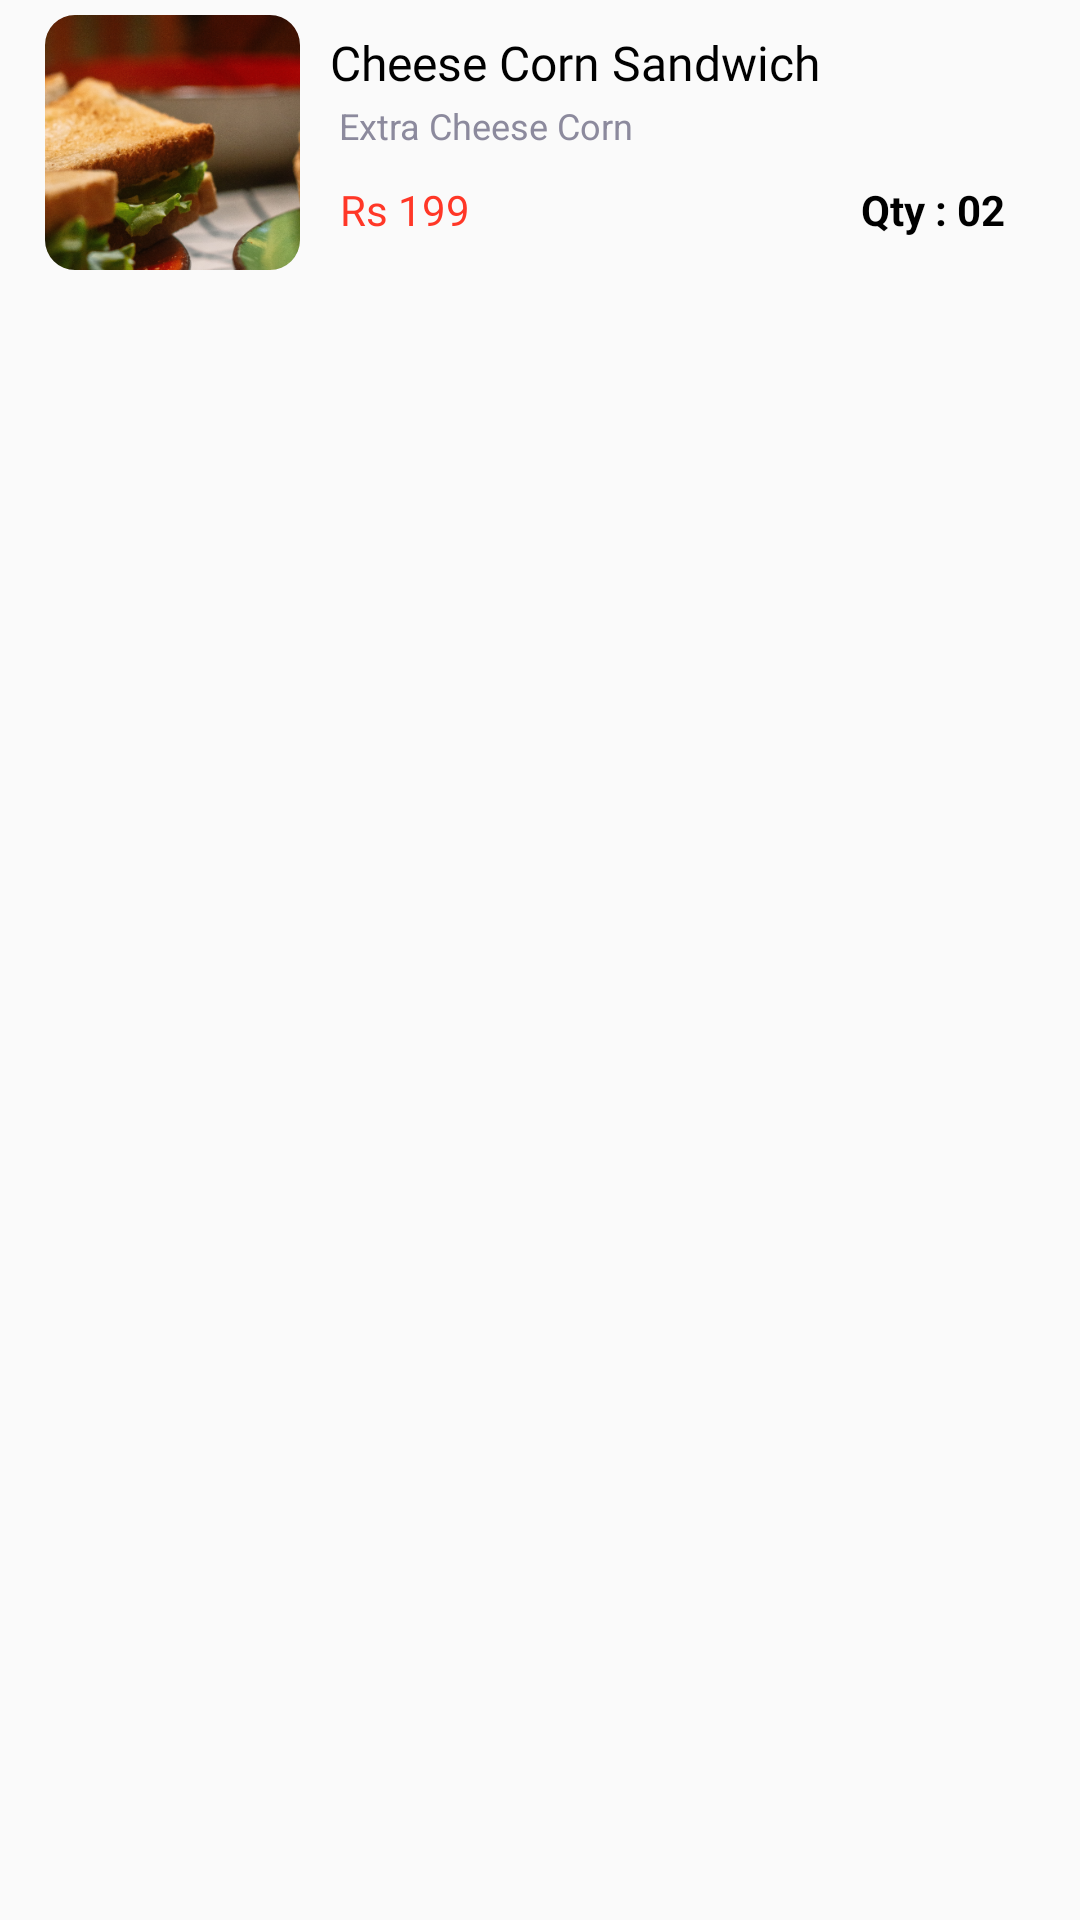

Icons on this 1080 x 1920 Android screen, each with the point to tap as point (x, y):
food: point (172, 142)
